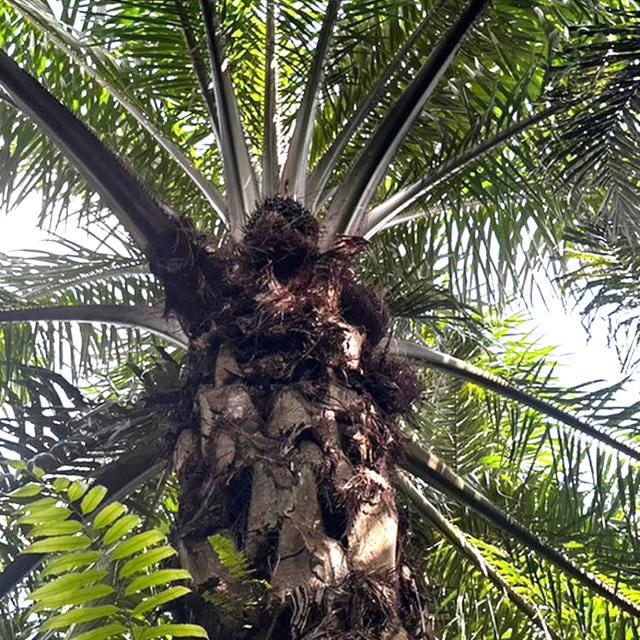unripe: (239, 192, 323, 260), (339, 276, 399, 342)
